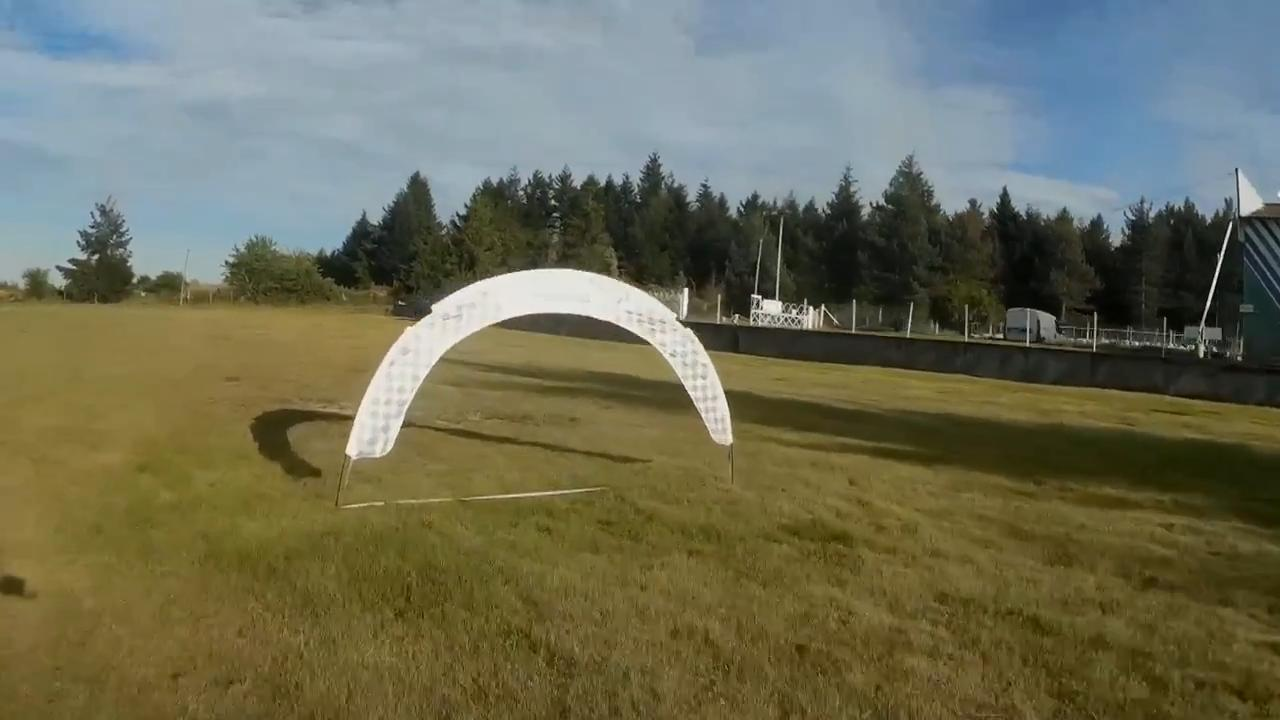gate: (344, 268, 734, 458)
